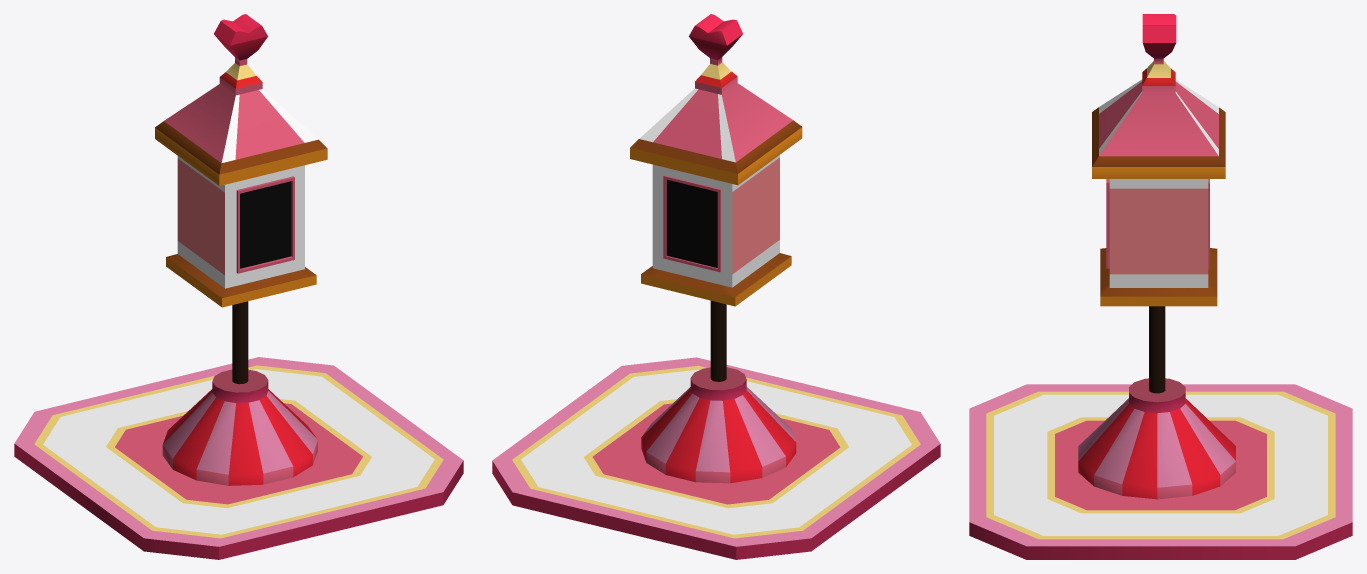
Rendered from Jomyung.fbx.
3 views of the same model, side by side, from view 1: azimuth 30°, elevation 25°; view 2: azimuth 150°, elevation 25°; view 3: azimuth 270°, elevation 25° (orthographic). The views are drawn at different scales.
Visible parts, largest first — view 1: Jomyung; view 2: Jomyung; view 3: Jomyung.
Boxes of the visible parts, left/top/right/bottom form: Jomyung: left=14, top=14, right=463, bottom=559; Jomyung: left=492, top=14, right=940, bottom=559; Jomyung: left=969, top=14, right=1352, bottom=559.
Bounding box in the file's own units: 0.5862 × 0.7749 × 0.5862.
